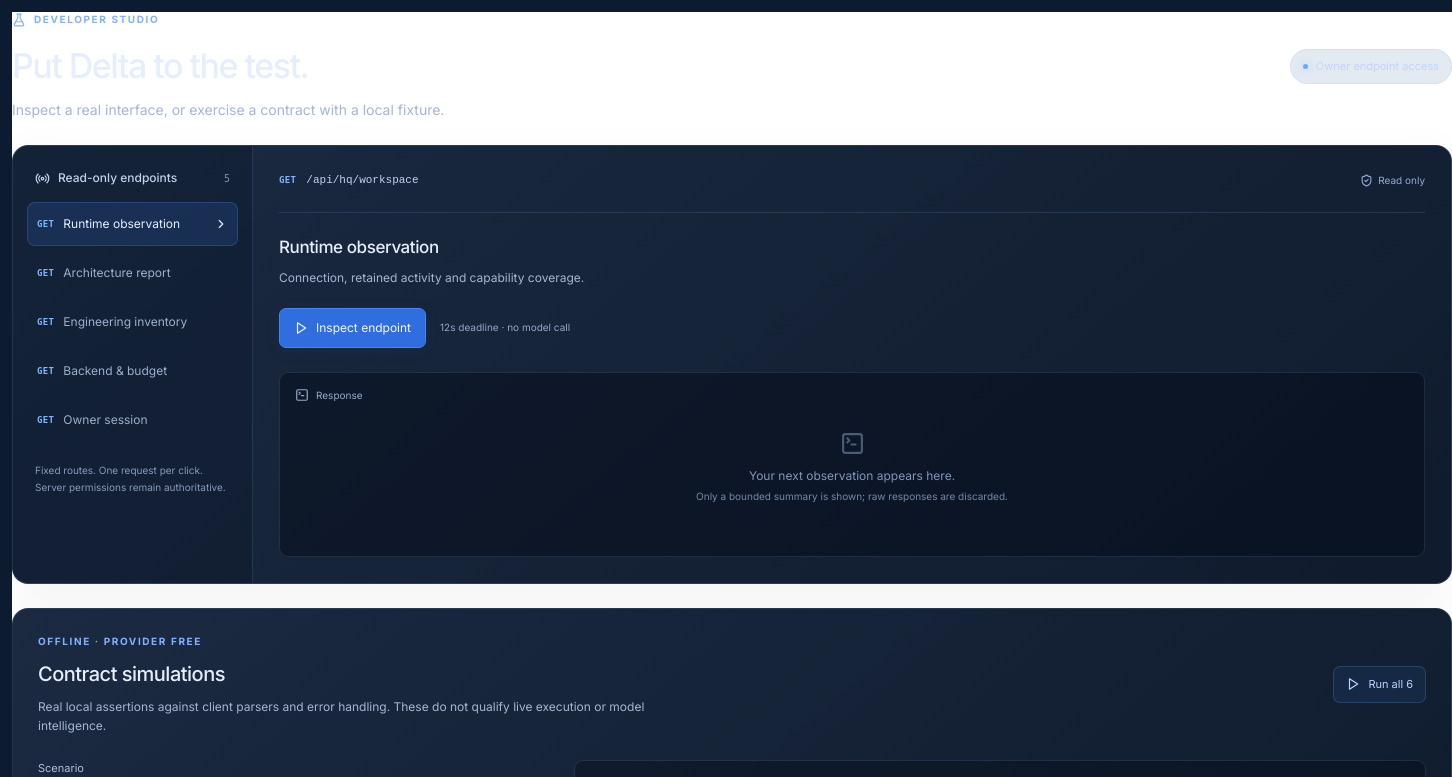
it: discards malformed success responses
Click the button "Inspect endpoint" at (352, 328), box left=279, top=308, right=426, bottom=348
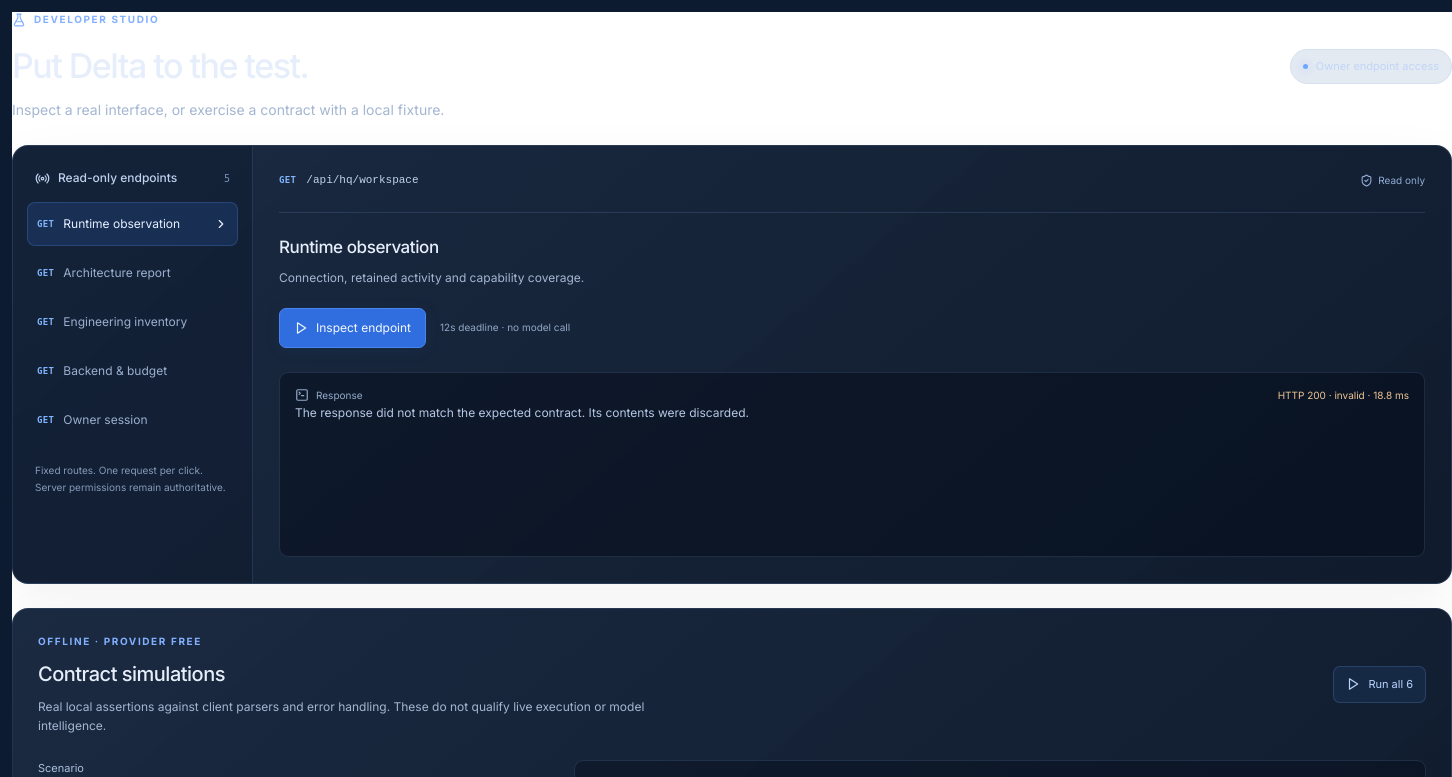
Check: the element named "Endpoint response" does not show "secret", box left=279, top=372, right=1425, bottom=557
Check: the message shows "did not match the expected contract", box left=295, top=405, right=749, bottom=420
